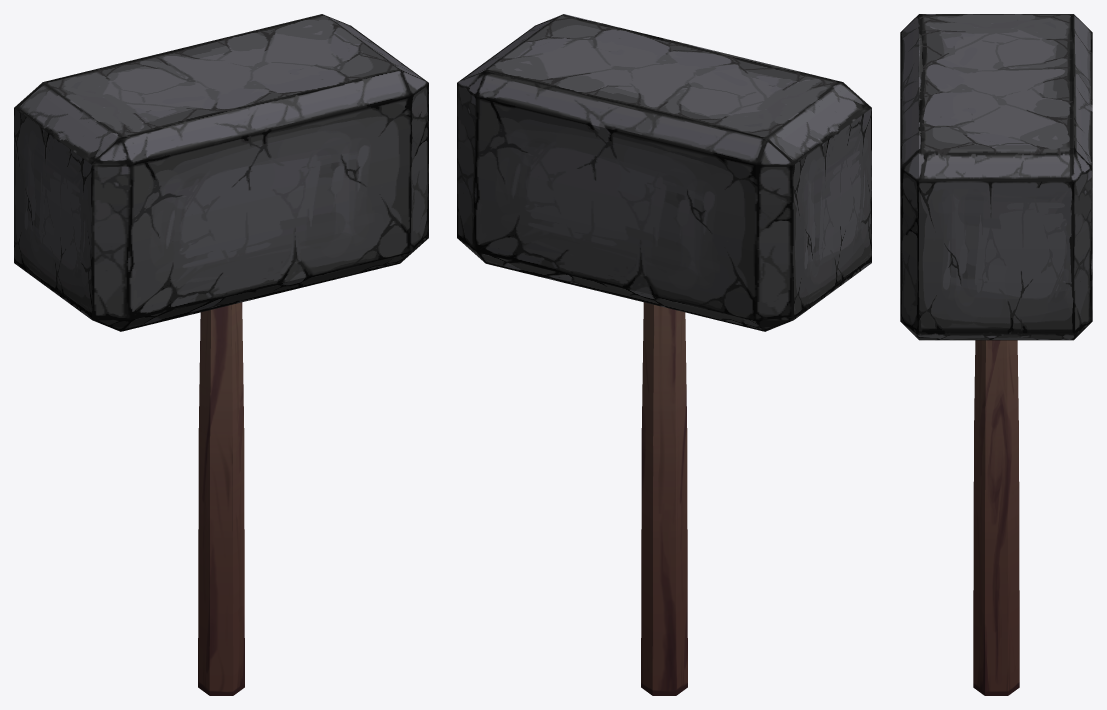
The model's file is Hammer.fbx.
3 views of the same model, side by side, from view 1: azimuth 30°, elevation 25°; view 2: azimuth 150°, elevation 25°; view 3: azimuth 270°, elevation 25° (orthographic).
Visible parts, largest first — view 1: 鋼, スティック; view 2: 鋼, スティック; view 3: 鋼, スティック.
Boxes of the visible parts, <box> form: 鋼: <box>14,14,428,331</box>; スティック: <box>198,302,244,695</box>; 鋼: <box>457,14,871,331</box>; スティック: <box>641,302,687,695</box>; 鋼: <box>900,14,1092,340</box>; スティック: <box>973,340,1019,695</box>.
Bounding box in the file's own units: 29.37 × 50.89 × 14.62.
1 material, 1 textured.
